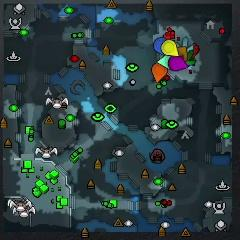p1: (154, 38, 167, 55)
p2: (158, 55, 171, 69)
p3: (168, 56, 188, 70)
p4: (161, 40, 179, 57)
p5: (152, 63, 168, 83)
x3: (177, 38, 194, 51)
x4: (185, 51, 196, 66)
x5: (177, 46, 187, 62)
